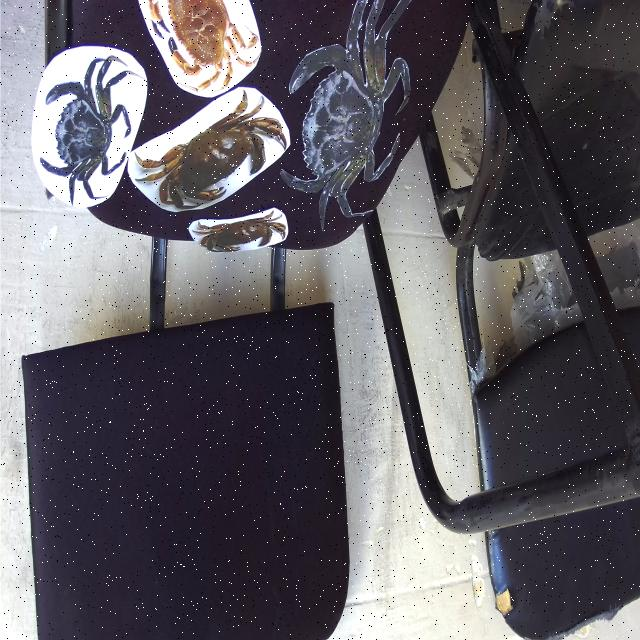European_Green_Crab: (265, 0, 432, 266), (27, 13, 147, 234)
